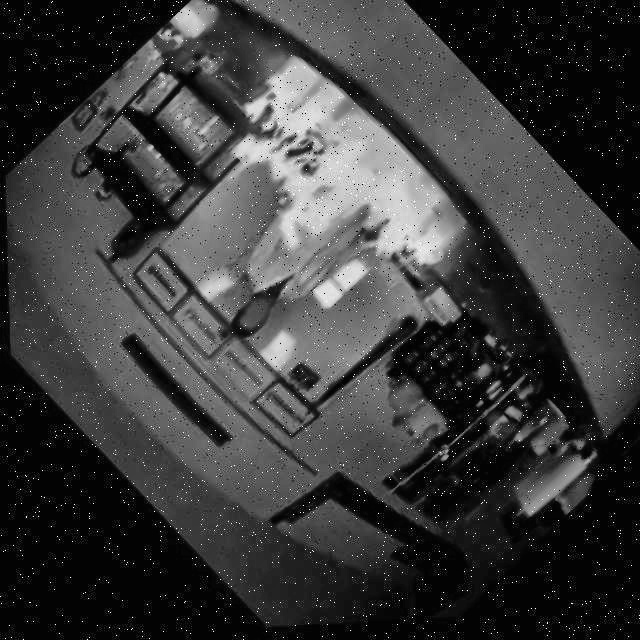Fire: (186, 59, 455, 346)
